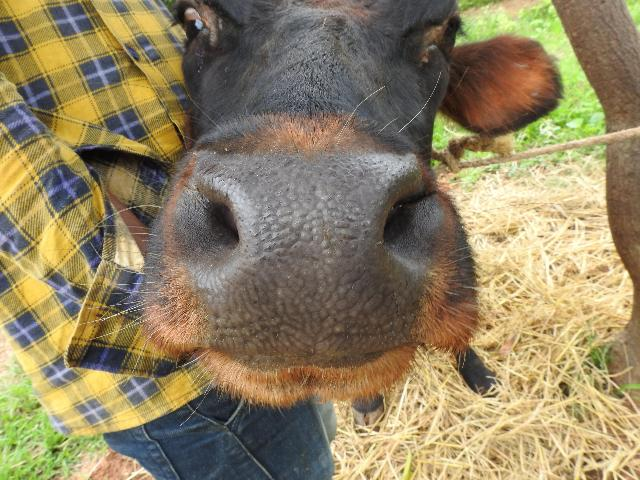Muzzle: (206, 166, 416, 356)
